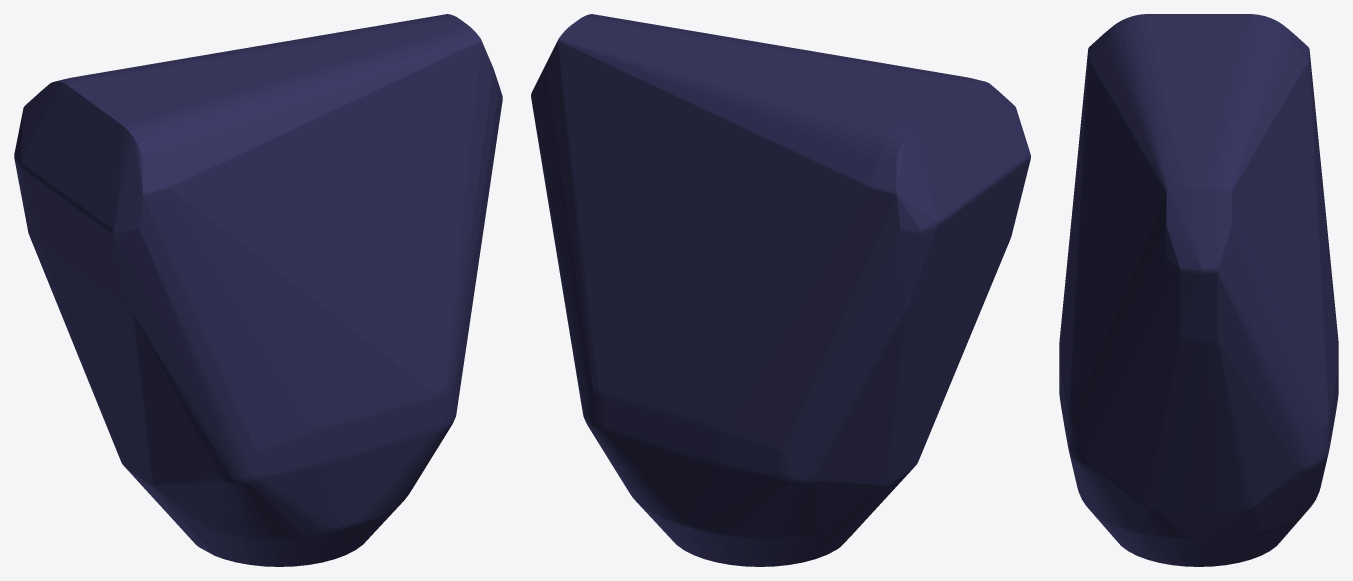
Rendered from GRIPPER_OPEN.dae.
3 renders of one model, left to right at view 1: azimuth 30°, elevation 25°; view 2: azimuth 150°, elevation 25°; view 3: azimuth 270°, elevation 25°, orthographic. The views are drawn at different scales.
Parts seen in each view (by area): view 1: GRIPPER_OPEN; view 2: GRIPPER_OPEN; view 3: GRIPPER_OPEN.
Part boxes in pixels (bbox=[...]): GRIPPER_OPEN: bbox=[14, 14, 502, 566]; GRIPPER_OPEN: bbox=[531, 14, 1030, 566]; GRIPPER_OPEN: bbox=[1059, 14, 1338, 566].
Size of the model in its own units: 0.2181 by 0.1302 by 0.2228.
